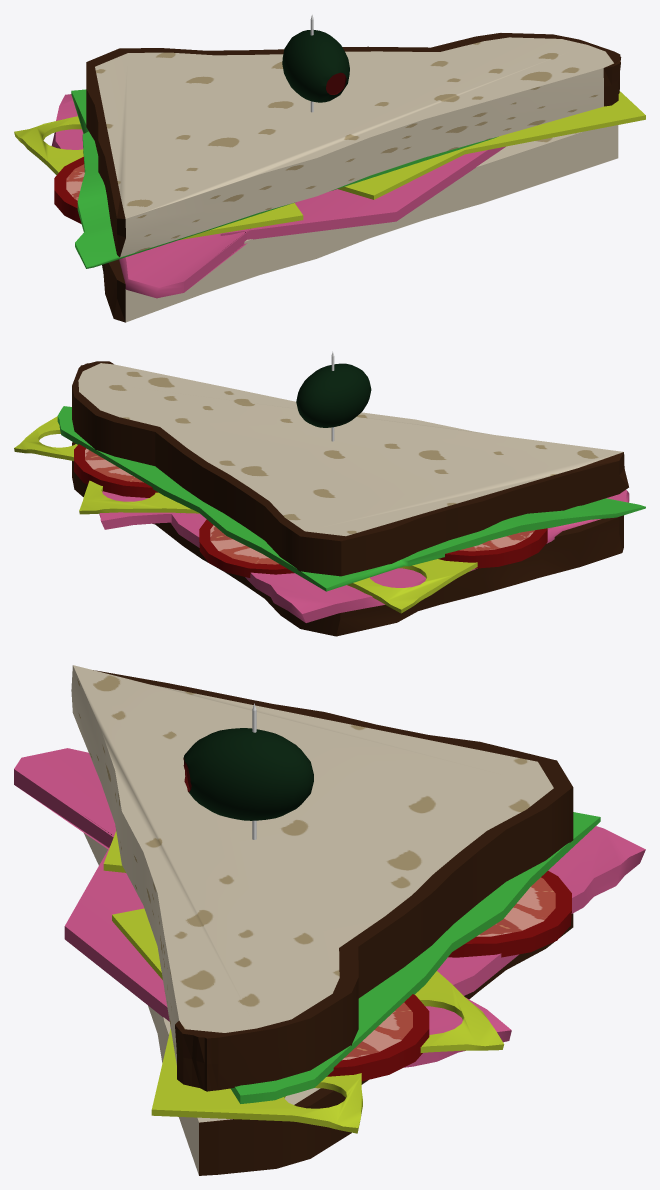
The model's file is sandvich2.fbx.
3 views of the same model, one above another, from view 1: azimuth 30°, elevation 25°; view 2: azimuth 150°, elevation 25°; view 3: azimuth 270°, elevation 25° (orthographic). The views are drawn at different scales.
Visible parts, largest first — view 1: Box001, Box008, Box007, Box006, Box003, Sphere001, W, W004, W003, Cylinder004; view 2: Box001, Box008, Box003, Box006, Sphere001, W, Cylinder011, Cylinder004, Cylinder012, W003, Box007, W004; view 3: Box001, Box006, Sphere001, Box008, Box003, Box007, W004, Cylinder011, W003, Cylinder012.
Boxes of the visible parts, x1=… form: Box001: x1=86, y1=33, x2=621, y2=257; Box008: x1=102, y1=125, x2=618, y2=322; Box007: x1=220, y1=146, x2=505, y2=239; Box006: x1=51, y1=94, x2=250, y2=298; Box003: x1=71, y1=89, x2=498, y2=268; Sphere001: x1=282, y1=30, x2=349, y2=102; W: x1=14, y1=116, x2=303, y2=239; W004: x1=450, y1=91, x2=645, y2=154; W003: x1=338, y1=144, x2=475, y2=199; Cylinder004: x1=54, y1=157, x2=84, y2=223; Box001: x1=72, y1=361, x2=628, y2=576; Box008: x1=72, y1=442, x2=623, y2=636; Box003: x1=57, y1=406, x2=645, y2=591; Box006: x1=171, y1=490, x2=629, y2=622; Sphere001: x1=296, y1=363, x2=371, y2=427; W: x1=347, y1=559, x2=477, y2=613; Cylinder011: x1=199, y1=519, x2=294, y2=577; Cylinder004: x1=438, y1=528, x2=547, y2=568; Cylinder012: x1=74, y1=444, x2=157, y2=497; W003: x1=79, y1=480, x2=199, y2=514; Box007: x1=99, y1=491, x2=185, y2=529; W004: x1=14, y1=416, x2=77, y2=461; Box001: x1=71, y1=665, x2=573, y2=1091; Box006: x1=14, y1=748, x2=645, y2=995; Sphere001: x1=183, y1=728, x2=313, y2=820; Box008: x1=84, y1=833, x2=573, y2=1175; Box003: x1=230, y1=812, x2=600, y2=1103; Box007: x1=64, y1=846, x2=511, y2=1067; W004: x1=151, y1=1029, x2=362, y2=1133; Cylinder011: x1=448, y1=871, x2=571, y2=957; W003: x1=112, y1=908, x2=504, y2=1052; Cylinder012: x1=327, y1=994, x2=429, y2=1081.
Size of the model in its own units: 53.49 by 17.17 by 35.39.
Materials: 9 (2 with a texture image).
